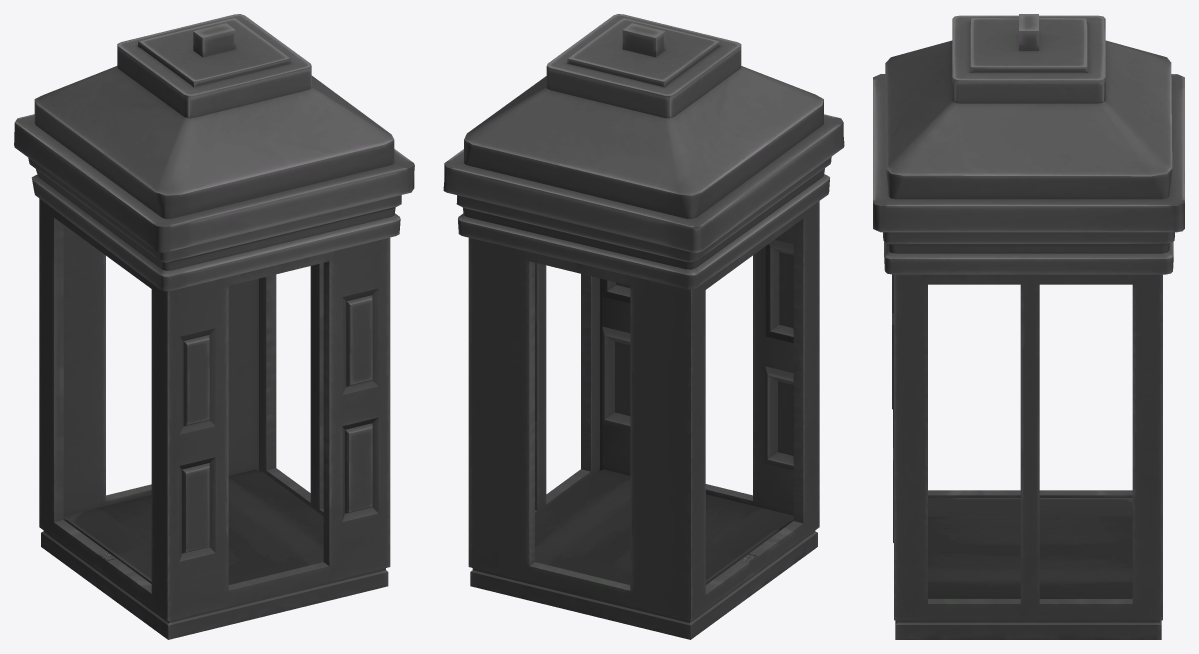
The model's file is Hod_Elevator.fbx.
3 renders of one model, left to right at view 1: azimuth 30°, elevation 25°; view 2: azimuth 150°, elevation 25°; view 3: azimuth 270°, elevation 25°, orthographic. The views are drawn at different scales.
Parts seen in each view (by area): view 1: elevatorCompartmentBase, elevatorCompartmentTop; view 2: elevatorCompartmentBase, elevatorCompartmentTop; view 3: elevatorCompartmentTop, elevatorCompartmentBase.
Part boxes in pixels (<box>): elevatorCompartmentBase: <box>39,198,390,639</box>; elevatorCompartmentTop: <box>14,14,414,291</box>; elevatorCompartmentBase: <box>468,201,819,639</box>; elevatorCompartmentTop: <box>443,14,844,289</box>; elevatorCompartmentTop: <box>873,14,1184,274</box>; elevatorCompartmentBase: <box>892,274,1162,639</box>.
Size of the model in its own units: 6.58 by 13.07 by 6.58.
